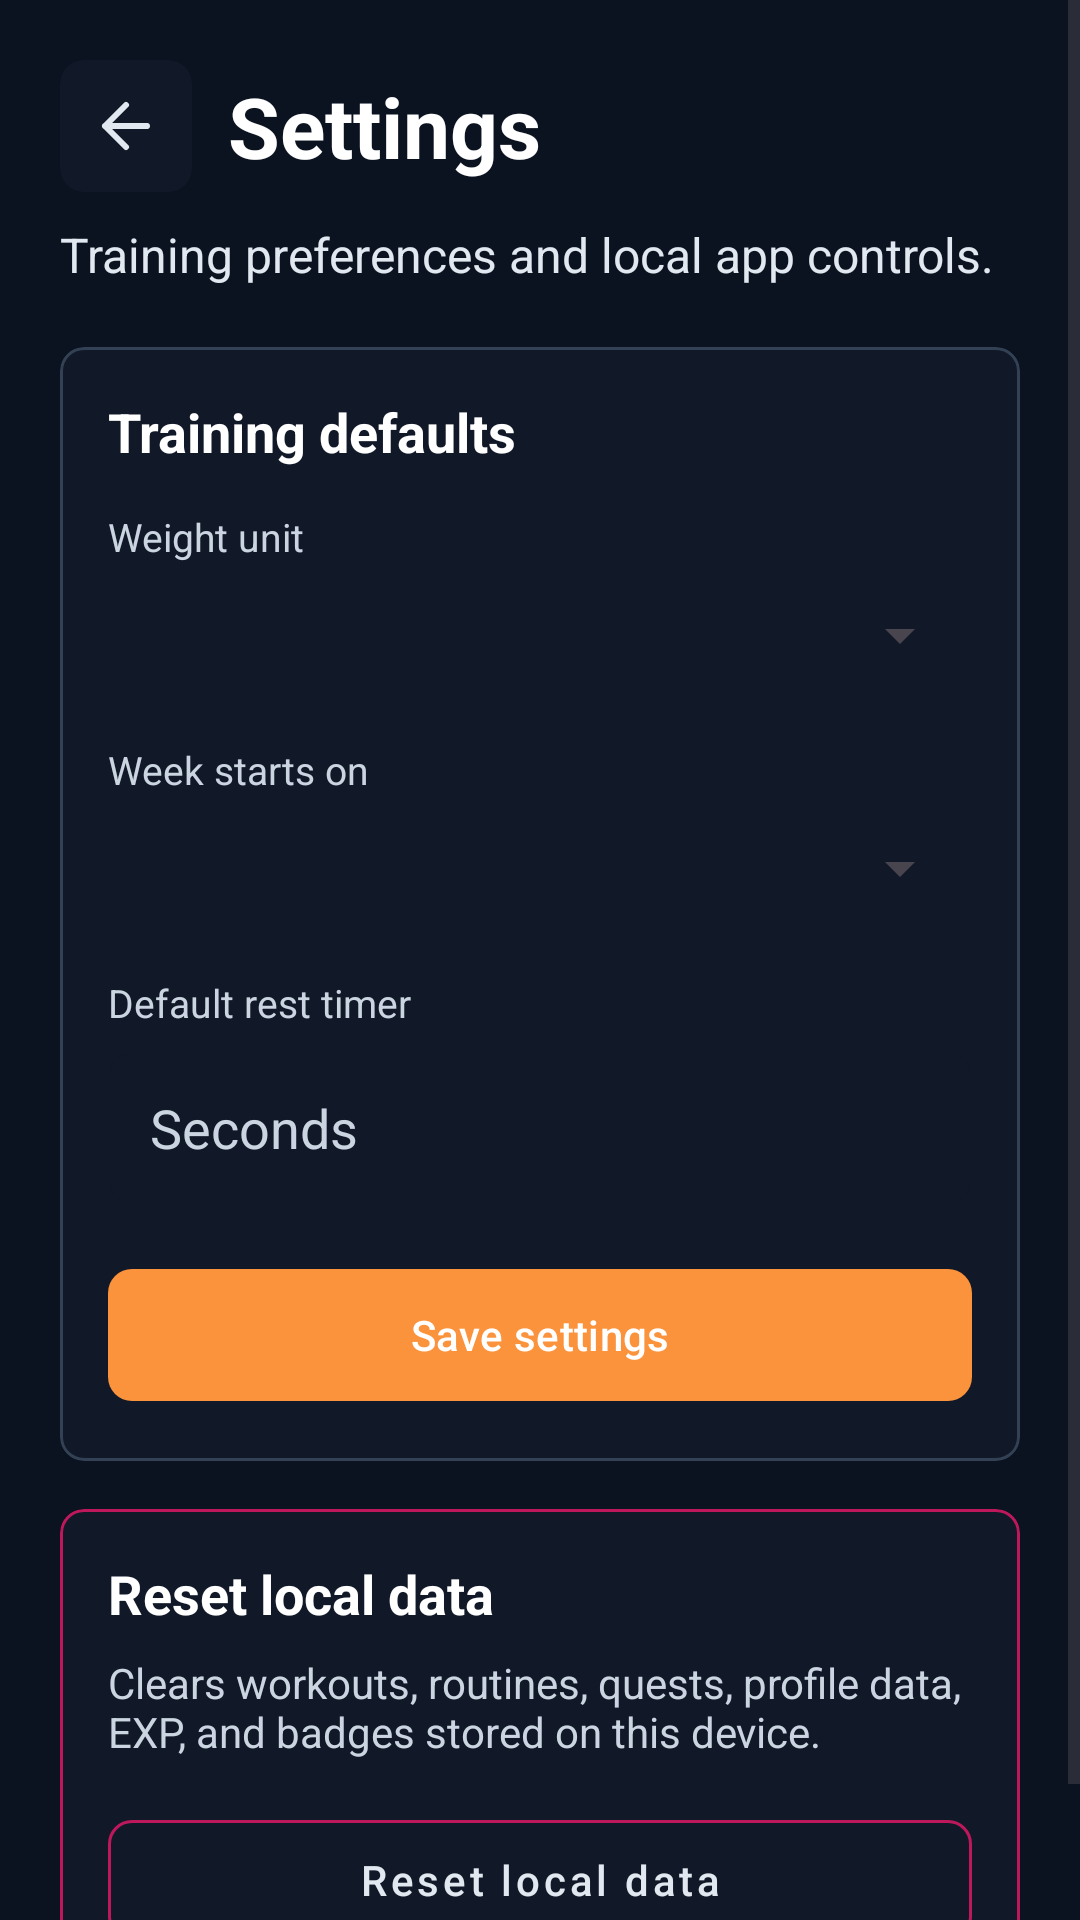

Icon bounding boxes for this 1080*1920 phone screenshot, format Rect(x1, y1, x2, y2):
Back: Rect(102, 102, 150, 150)
